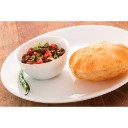poori: (71, 42, 128, 77)
